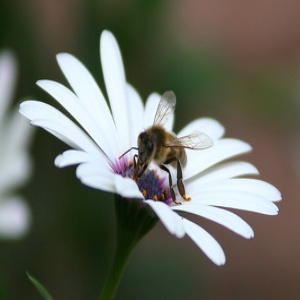bee: (119, 85, 216, 208)
